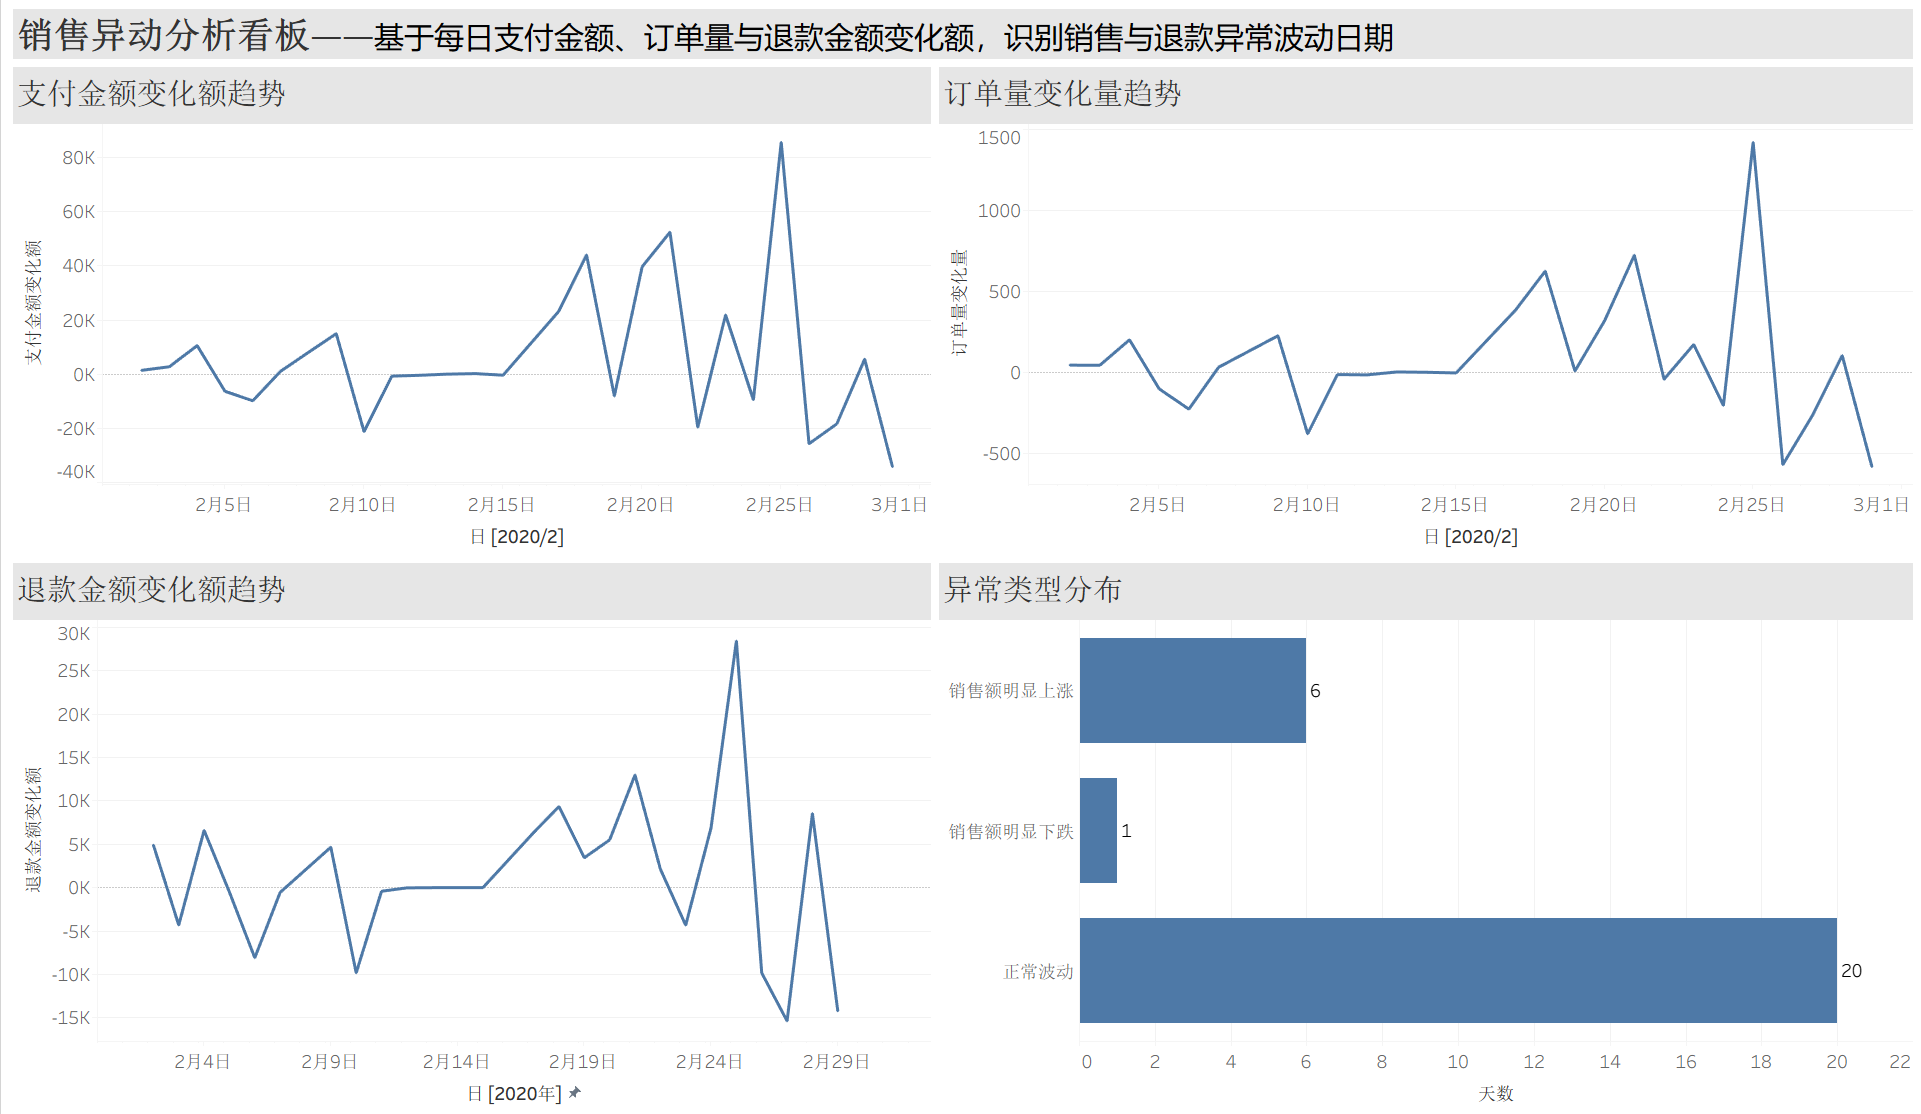

Layout of this report page (visuals, bound fields, positions):
{"tool":"tableau","page":{"name":"03_销售异动分析看板","canvas":[1000,1000],"units":"permille","ordinal":2},"visuals":[{"type":"title","box":[4.2,7.1,991.7,51.5]},{"type":"worksheet","title":"支付金额变化额趋势","mark":"Line","rows":["paid_amount_diff"],"cols":["order_date"],"box":[4.2,58.6,481.3,439.9]},{"type":"worksheet","title":"订单量变化量趋势","mark":"Automatic","rows":["order_cnt_diff"],"cols":["order_date"],"box":[485.4,58.6,510.4,439.9]},{"type":"worksheet","title":"退款金额变化额趋势","mark":"Automatic","rows":["refund_amount_diff"],"cols":["order_date"],"box":[4.2,498.5,481.3,494.4]},{"type":"worksheet","title":"异常类型分布","mark":"Automatic","rows":["abnormal_type"],"cols":["abnormal_analysis.csv_3E9AA3D808A145A0A232A9E22D22078A"],"box":[485.4,498.5,510.4,494.4]}]}

Visuals, with their boxes on the dashboard's canvas, which has no fixed pixel size, in thousandths of its width and height (x1, y1, x2, y2). These are canvas units, not pixel positions in the 1921x1114 screenshot, which may show the page scaled, cropped or inside an application window:
title: <bbox>4, 7, 996, 59</bbox>
"支付金额变化额趋势" worksheet (Line marks): <bbox>4, 59, 486, 498</bbox>
"订单量变化量趋势" worksheet: <bbox>485, 59, 996, 498</bbox>
"退款金额变化额趋势" worksheet: <bbox>4, 498, 486, 993</bbox>
"异常类型分布" worksheet: <bbox>485, 498, 996, 993</bbox>
